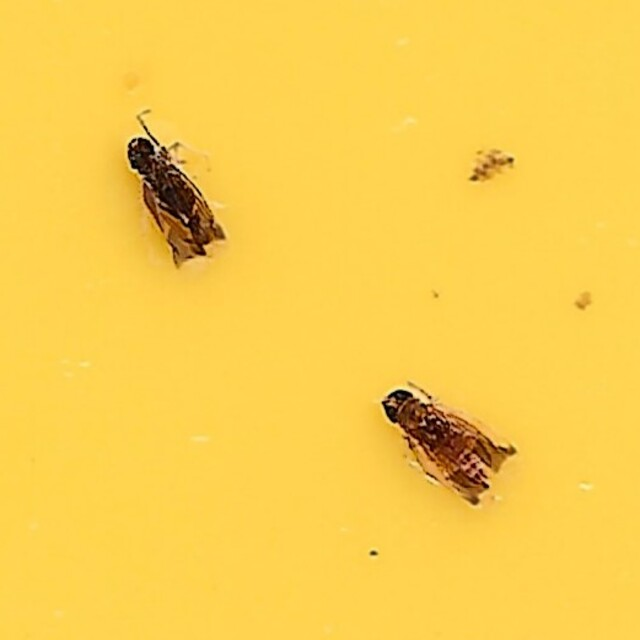Hemiptera: (377, 384, 517, 509), (123, 131, 224, 270)
